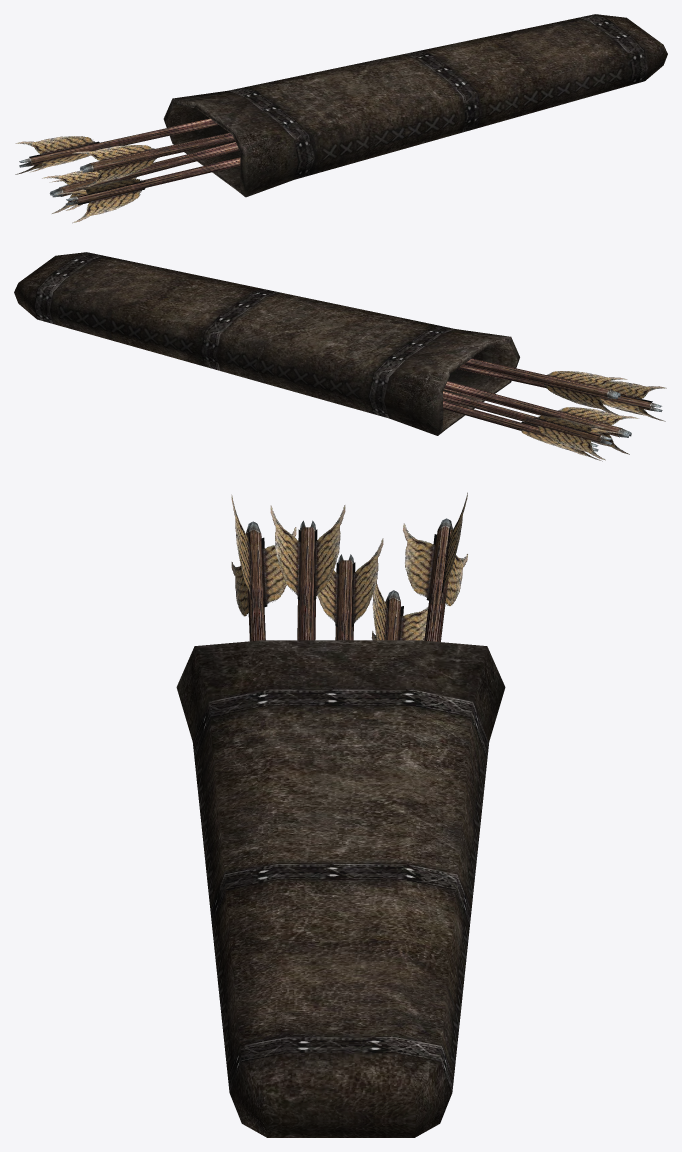
File: QUIVER_ARROWS_INVENTORYITEM.glb
The picture shows the model from 3 angles, top to bottom: view 1: azimuth 30°, elevation 25°; view 2: azimuth 150°, elevation 25°; view 3: azimuth 270°, elevation 25°; orthographic projection. The views are drawn at different scales.
Visible parts, largest first — view 1: Mesh; view 2: Mesh; view 3: Mesh.
Part boxes in pixels (x1=…): Mesh: x1=15, y1=14, x2=667, y2=223; Mesh: x1=14, y1=252, x2=666, y2=461; Mesh: x1=176, y1=492, x2=505, y2=1137.
Bounding box in the file's own units: 0.8616 × 0.0884 × 0.2026.
3 materials, 3 textured.
